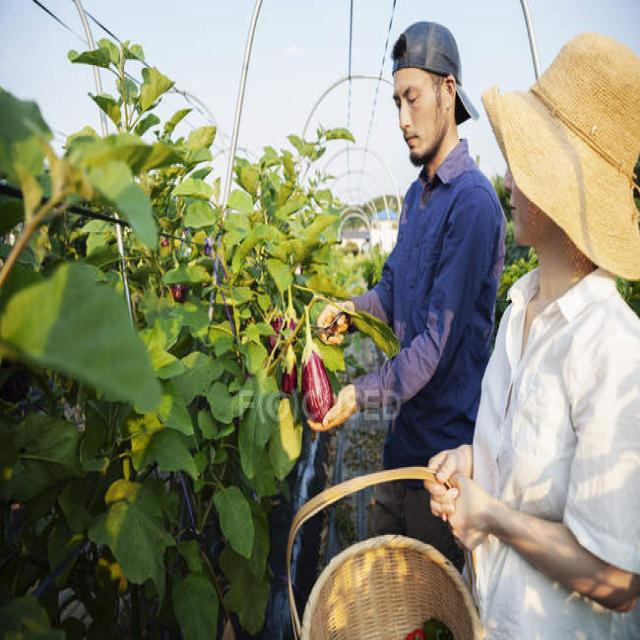cap: (391, 21, 480, 167)
hat: (483, 28, 640, 284)
